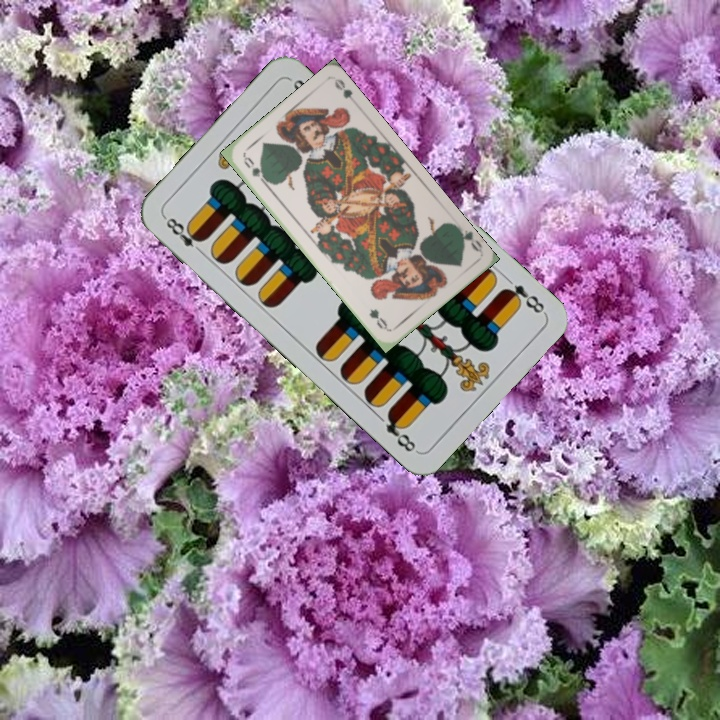E8: (160, 212, 207, 258), (497, 280, 548, 316)
GO: (239, 152, 272, 187), (452, 222, 485, 255)
